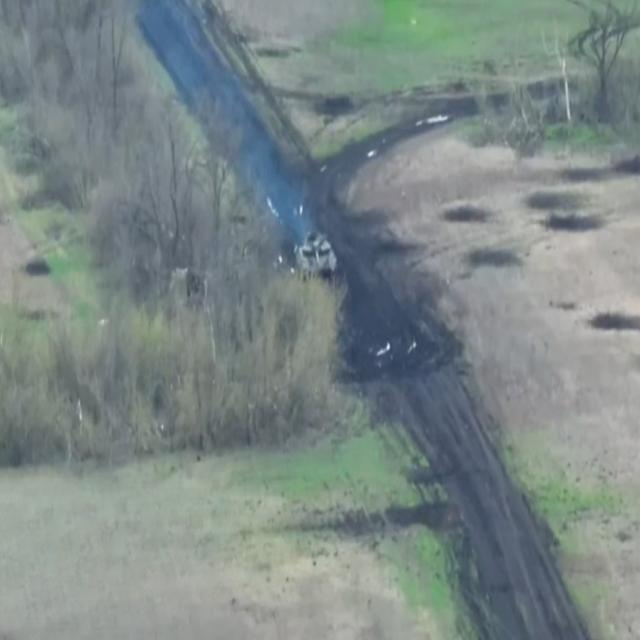MBT: (294, 229, 339, 281)
